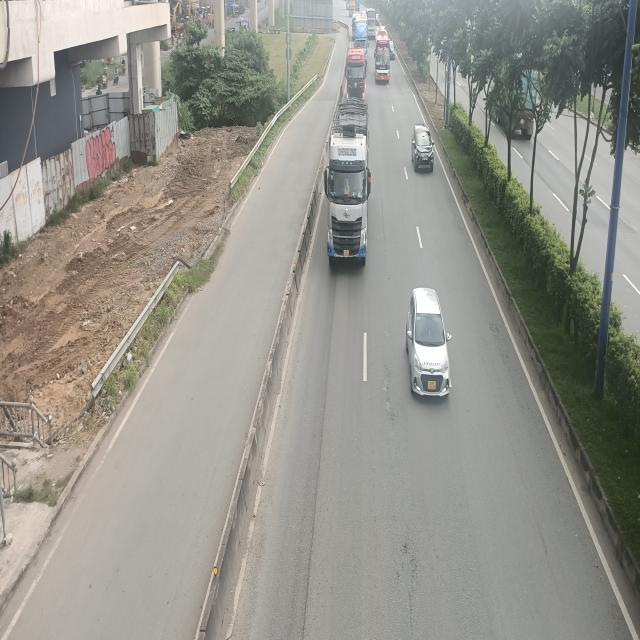car: (406, 288, 450, 401), (411, 125, 435, 172)
coach: (373, 30, 391, 85)
truck: (324, 105, 371, 266)
